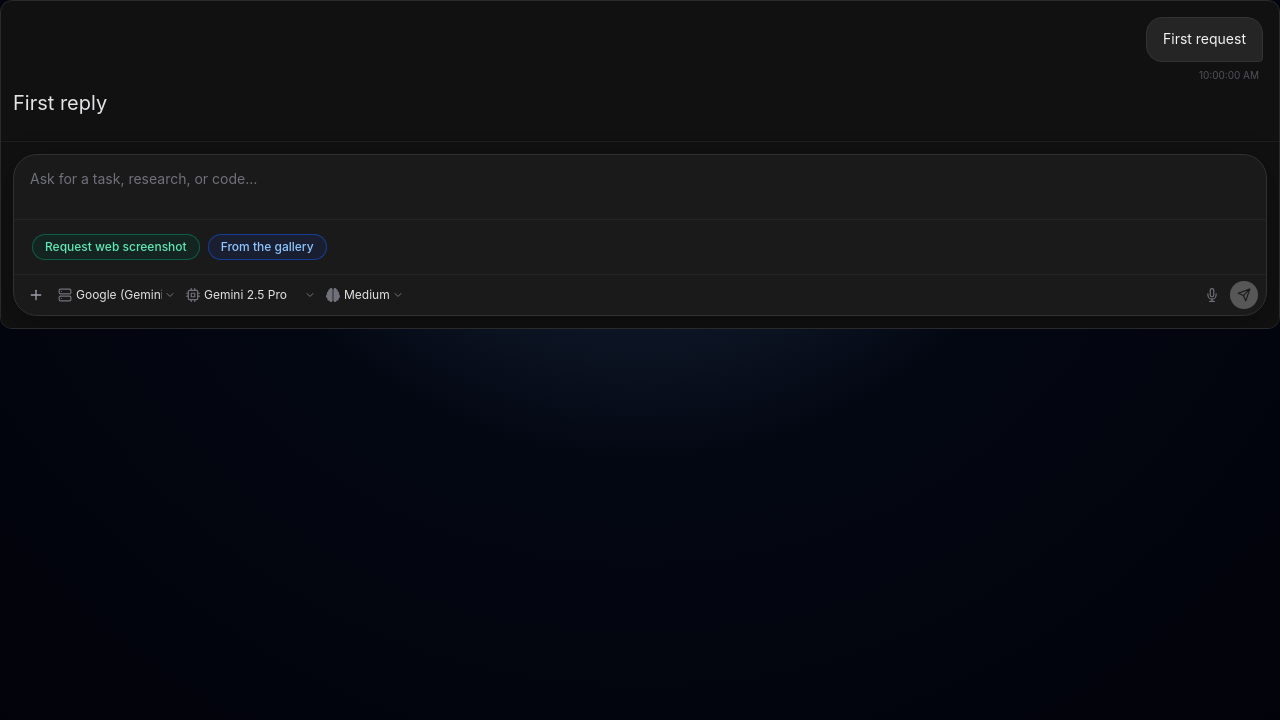
Scenario: ChatPanel chronological message ordering › keeps a new local follow-up bubble after the prior assistant reply
Expected: the text "First reply" is shown, [13,91,107,115]
In the text box with placeholder "Ask for a task, research, or code…": coordinates (640, 184) [14,155,1266,213], type "Follow-up request"
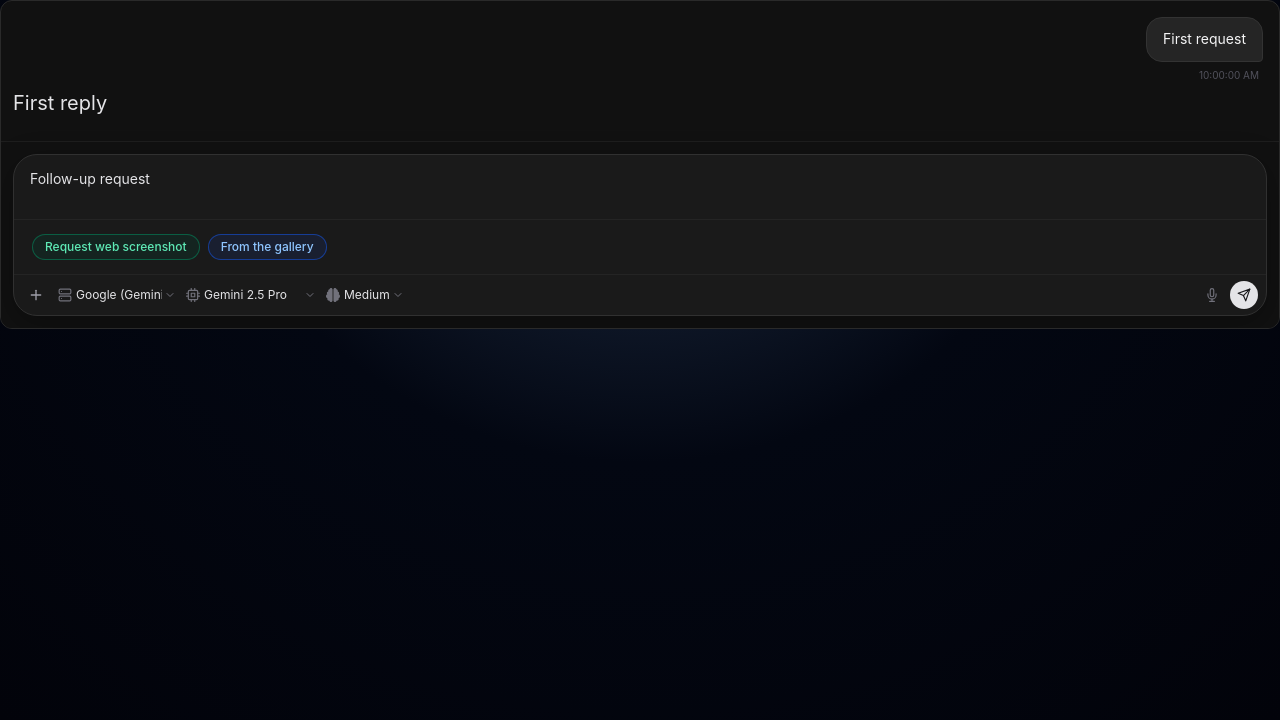
Press Enter in the text box with placeholder "Ask for a task, research, or code…", box [14,155,1266,213]
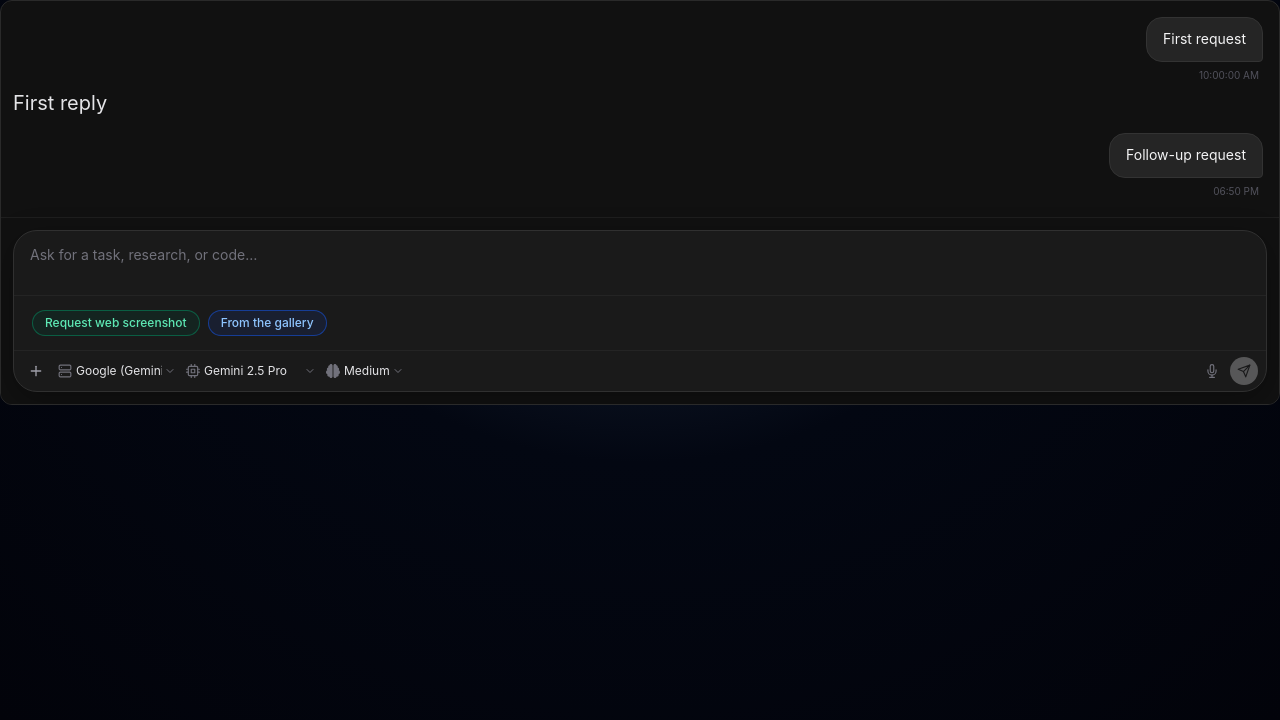
Expected: the text "Follow-up request" is shown, [1126,144,1246,167]
